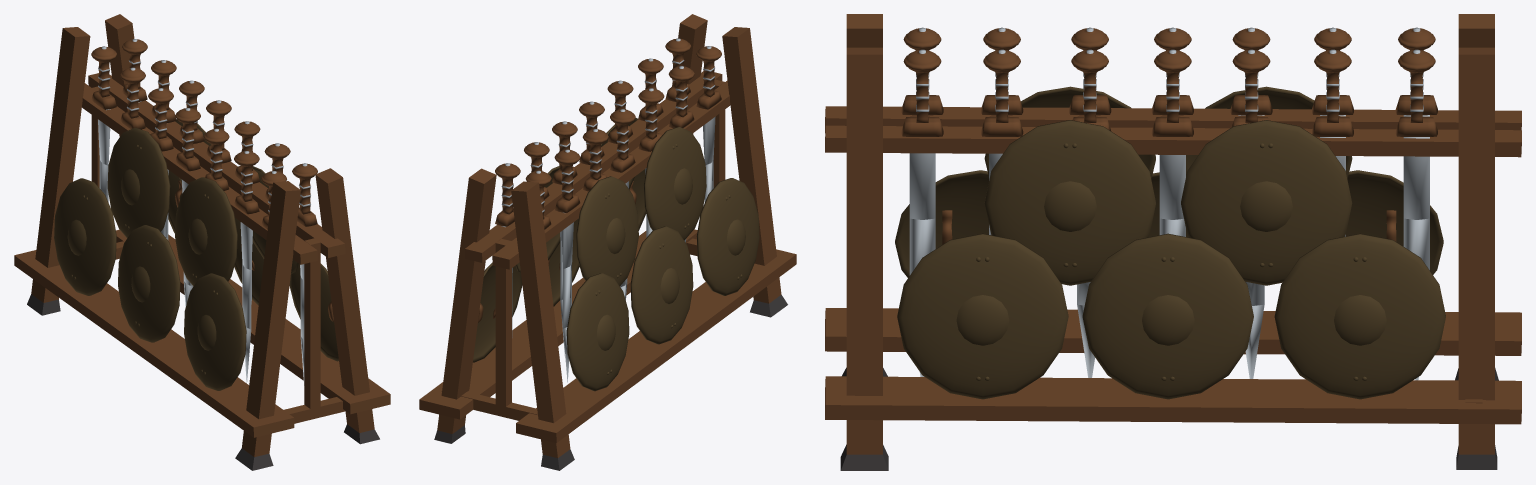
Rendered from Schwert Ständer Ver 1.fbx.
3 views of the same model, side by side, from view 1: azimuth 30°, elevation 25°; view 2: azimuth 150°, elevation 25°; view 3: azimuth 270°, elevation 25° (orthographic). The views are drawn at different scales.
Visible parts, largest first — view 1: Schwert Ständer Ver 2; view 2: Schwert Ständer Ver 2; view 3: Schwert Ständer Ver 2.
Boxes of the visible parts, <box> form: Schwert Ständer Ver 2: <box>14,14,390,470</box>; Schwert Ständer Ver 2: <box>419,14,796,470</box>; Schwert Ständer Ver 2: <box>825,14,1521,470</box>.
Bounding box in the file's own units: 73.1 × 137 × 222.
